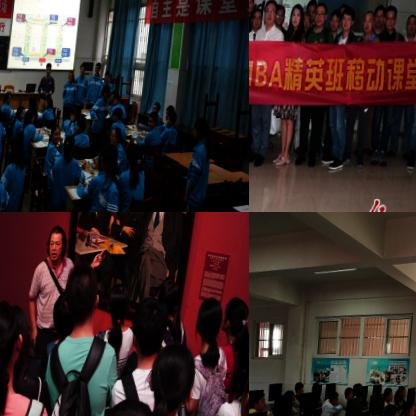head: (155, 336, 203, 412), (1, 300, 42, 369), (133, 294, 176, 352), (69, 259, 109, 319), (0, 296, 28, 381), (51, 286, 89, 345), (199, 293, 230, 342), (157, 274, 188, 320), (109, 283, 137, 324), (225, 288, 249, 335), (47, 224, 71, 262), (237, 323, 249, 390), (106, 145, 127, 177), (198, 114, 216, 140), (14, 134, 31, 160), (131, 141, 147, 167), (264, 0, 280, 23), (387, 3, 401, 28), (363, 7, 378, 30), (293, 2, 306, 27), (68, 131, 82, 154), (377, 1, 389, 27), (330, 8, 344, 29), (275, 2, 288, 24), (315, 2, 328, 24), (344, 5, 357, 27), (256, 393, 271, 411), (302, 10, 315, 30), (29, 107, 42, 126), (307, 0, 320, 19), (56, 123, 68, 143), (253, 5, 265, 25), (387, 403, 405, 416), (288, 388, 301, 405), (80, 116, 92, 134), (171, 111, 184, 127), (116, 126, 127, 144), (386, 387, 398, 403), (332, 389, 343, 406), (117, 106, 128, 122), (399, 384, 412, 397), (298, 379, 309, 394), (22, 103, 31, 121), (33, 94, 43, 110), (76, 106, 86, 122), (153, 112, 163, 128), (169, 101, 179, 117), (340, 2, 351, 16), (9, 89, 18, 106), (408, 12, 416, 31), (0, 155, 6, 180), (348, 385, 359, 398), (98, 61, 108, 74), (408, 400, 416, 416), (107, 85, 116, 99), (157, 100, 166, 114), (49, 97, 58, 109), (50, 62, 57, 76), (83, 62, 91, 73), (119, 93, 126, 105), (249, 0, 257, 10), (73, 69, 80, 80), (109, 70, 116, 81), (115, 88, 122, 99), (0, 69, 4, 79)
